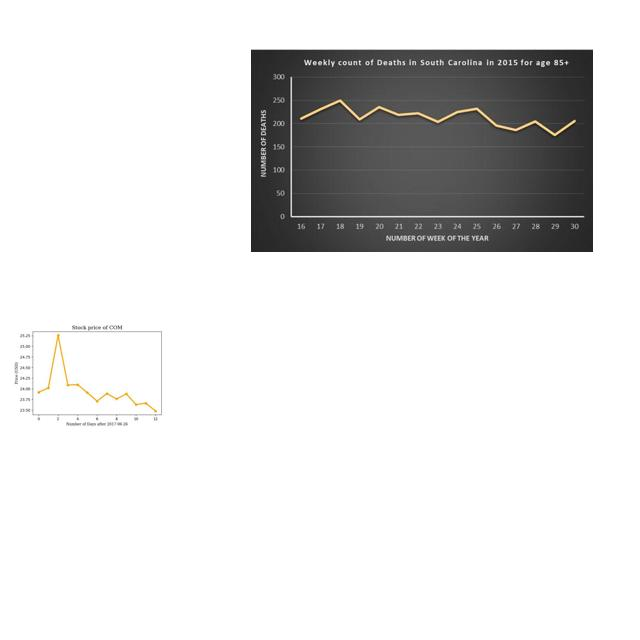Graph: (251, 49, 593, 252), (12, 310, 178, 435)
